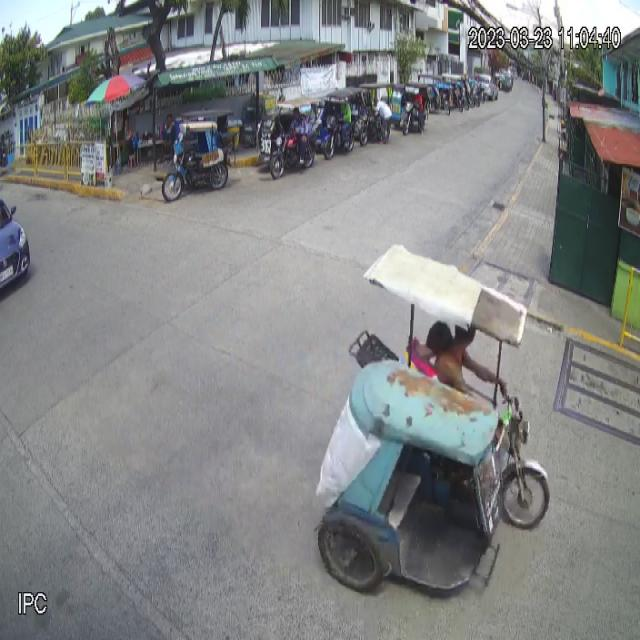Tricycle: (311, 242, 551, 598), (162, 106, 236, 205)
